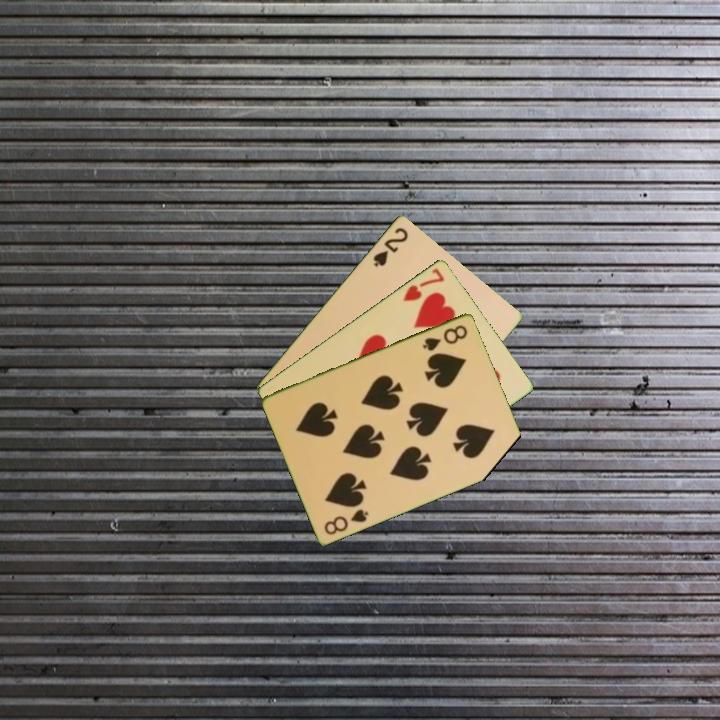2s: (370, 223, 411, 269)
7h: (399, 264, 447, 304)
8s: (419, 321, 471, 354), (321, 505, 372, 537)
